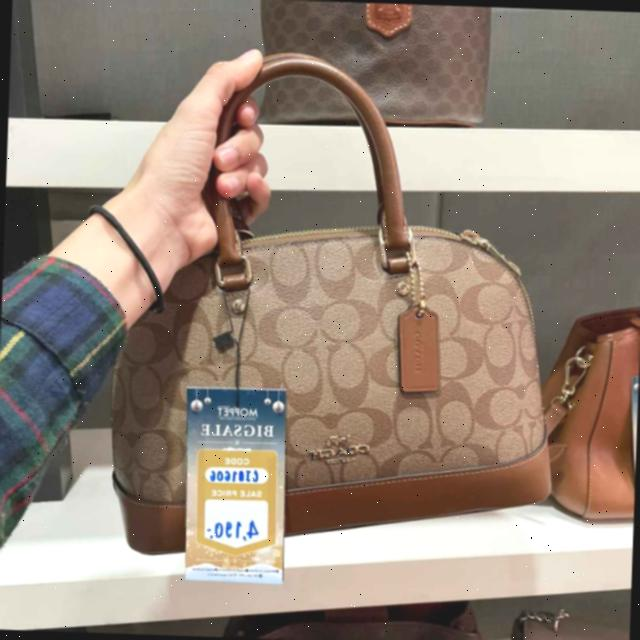handbag: (101, 207, 561, 583)
